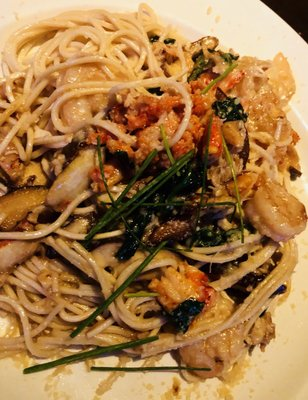sandwich: (0, 4, 307, 393)
